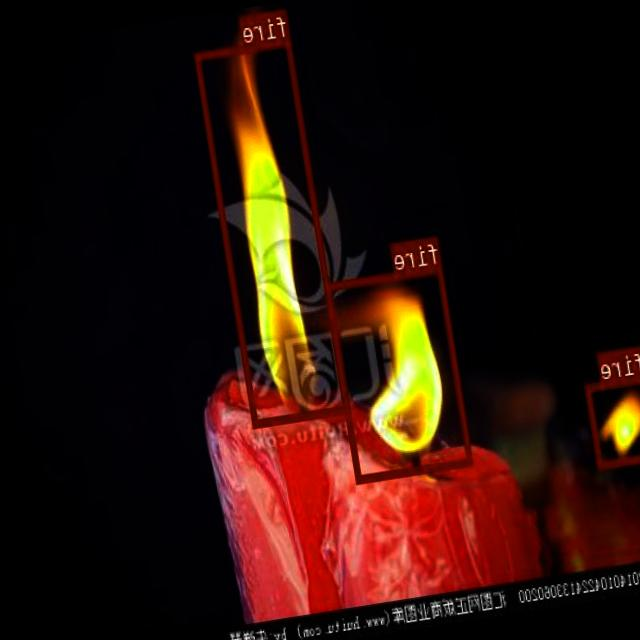fire: (196, 36, 350, 426), (327, 264, 474, 482), (586, 372, 640, 466)
